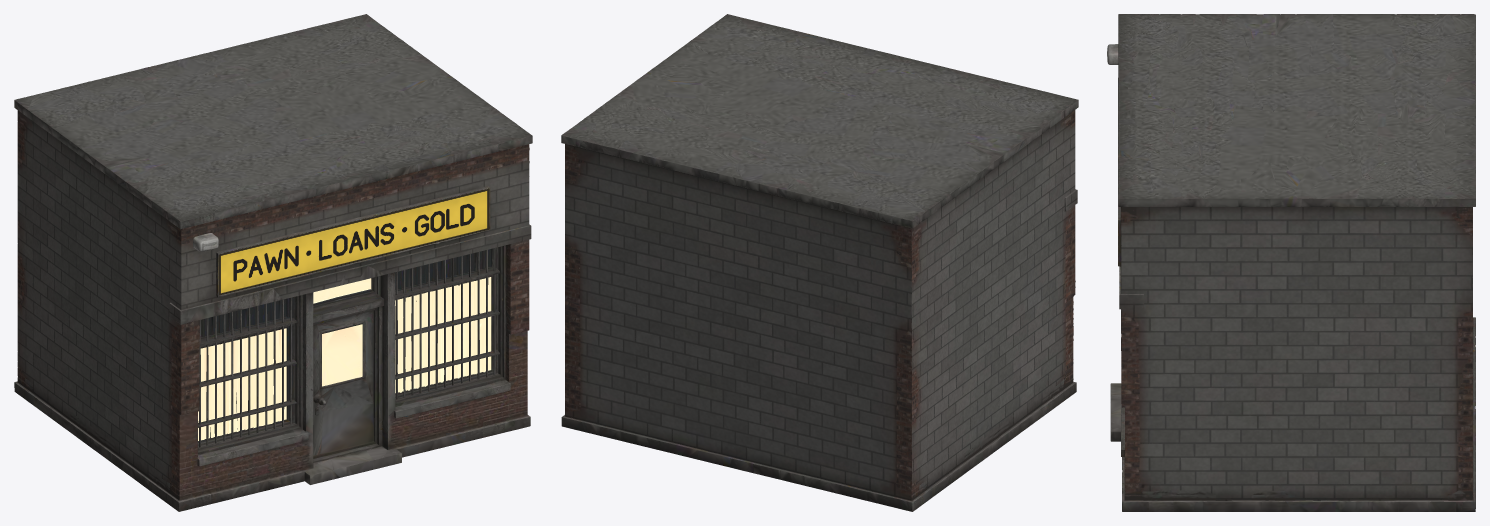
Rendered from store-pawn.glb.
3 renders of one model, left to right at view 1: azimuth 30°, elevation 25°; view 2: azimuth 150°, elevation 25°; view 3: azimuth 270°, elevation 25°, orthographic. The views are drawn at different scales.
Parts seen in each view (by area): view 1: Mesh_0; view 2: Mesh_0; view 3: Mesh_0.
Boxes of the visible parts, left/top/right/bottom form: Mesh_0: left=14, top=14, right=532, bottom=511; Mesh_0: left=561, top=14, right=1078, bottom=511; Mesh_0: left=1107, top=14, right=1475, bottom=511.
Bounding box in the file's own units: 5.69 × 4.5 × 4.8.
4 materials, 4 textured.
